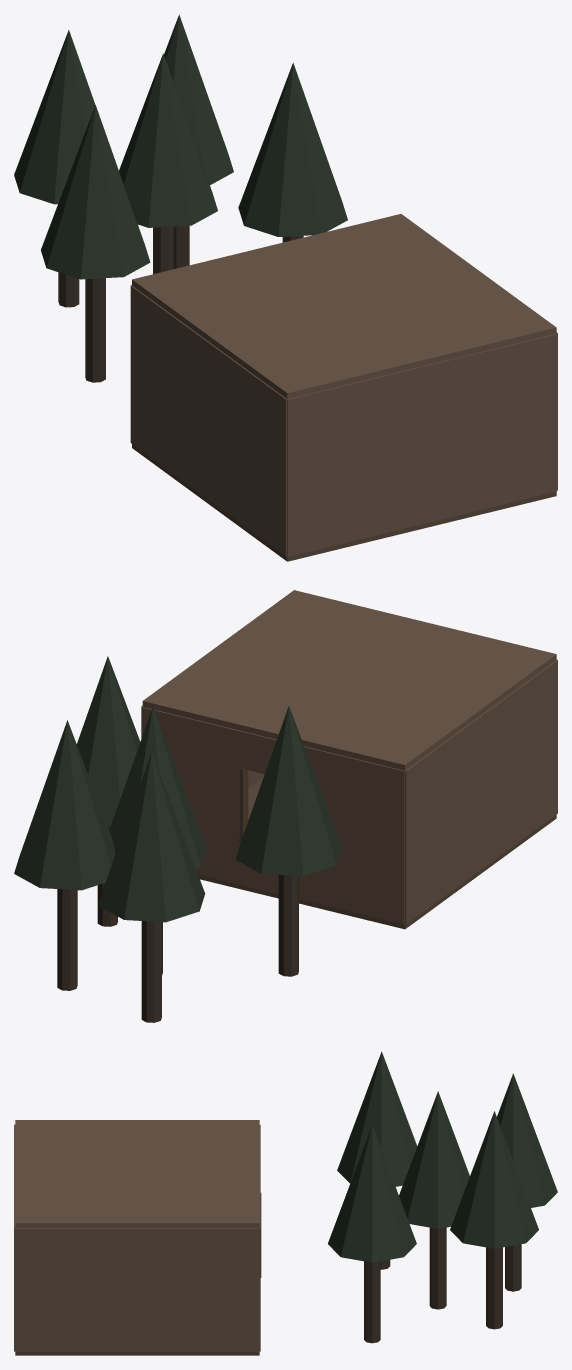
File: cabin_intro.glb
The picture shows the model from 3 angles, top to bottom: view 1: azimuth 30°, elevation 25°; view 2: azimuth 150°, elevation 25°; view 3: azimuth 270°, elevation 25°; orthographic projection. The views are drawn at different scales.
Visible parts, largest first — view 1: Cabin_Ceiling, Cabin_Wall_South, Cabin_Wall_West, Forest_Canopy_0, Forest_Canopy_2, Forest_Canopy_1, Forest_Canopy_3, Forest_Canopy_4, Cabin_Floor, Forest_Trunk_0, Forest_Trunk_1, Forest_Trunk_4 (+1 smaller); view 2: Cabin_Ceiling, Cabin_Wall_West, Cabin_Wall_North_L, Forest_Canopy_3, Forest_Canopy_0, Forest_Canopy_4, Cabin_Wall_North_R, Forest_Canopy_2, Forest_Canopy_1, Forest_Trunk_0, Forest_Trunk_3, Forest_Trunk_4 (+4 smaller); view 3: Cabin_Wall_East, Cabin_Ceiling, Forest_Canopy_4, Forest_Canopy_2, Forest_Canopy_1, Forest_Canopy_0, Forest_Canopy_3, Forest_Trunk_1, Forest_Trunk_4, Forest_Trunk_2, Cabin_Floor, Forest_Trunk_3 (+1 smaller).
Boxes of the visible parts, x1,y1,x2,y2 form: Cabin_Ceiling: [132, 214, 556, 398]; Cabin_Wall_South: [287, 333, 557, 556]; Cabin_Wall_West: [130, 285, 287, 556]; Forest_Canopy_0: [41, 105, 150, 279]; Forest_Canopy_2: [238, 62, 347, 236]; Forest_Canopy_1: [119, 53, 217, 227]; Forest_Canopy_3: [14, 30, 95, 204]; Forest_Canopy_4: [164, 14, 233, 184]; Cabin_Floor: [132, 444, 556, 561]; Forest_Trunk_0: [85, 278, 105, 382]; Forest_Trunk_1: [153, 226, 173, 274]; Forest_Trunk_4: [173, 225, 189, 268]; Cabin_Ceiling: [142, 590, 556, 770]; Cabin_Wall_West: [405, 660, 557, 924]; Cabin_Wall_North_L: [303, 746, 404, 924]; Forest_Canopy_3: [98, 752, 205, 922]; Forest_Canopy_0: [235, 706, 342, 875]; Forest_Canopy_4: [14, 720, 115, 890]; Cabin_Wall_North_R: [142, 707, 243, 885]; Forest_Canopy_2: [76, 656, 140, 825]; Forest_Canopy_1: [109, 707, 206, 867]; Forest_Trunk_0: [278, 874, 298, 976]; Forest_Trunk_3: [141, 921, 161, 1022]; Forest_Trunk_4: [57, 889, 77, 990]; Cabin_Wall_East: [15, 1228, 259, 1351]; Cabin_Ceiling: [15, 1120, 259, 1227]; Forest_Canopy_4: [450, 1111, 538, 1248]; Forest_Canopy_2: [328, 1125, 416, 1262]; Forest_Canopy_1: [399, 1091, 469, 1228]; Forest_Canopy_0: [337, 1051, 417, 1186]; Forest_Canopy_3: [497, 1073, 557, 1207]; Forest_Trunk_1: [429, 1227, 446, 1309]; Forest_Trunk_4: [486, 1247, 502, 1329]; Forest_Trunk_2: [364, 1261, 380, 1343]; Cabin_Floor: [15, 1352, 259, 1355]; Forest_Trunk_3: [505, 1244, 521, 1291].
Bounding box in the file's own units: 5.6 × 5.1 × 11.57.
